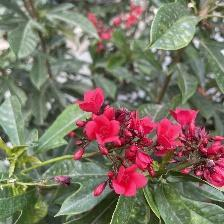jatropha: (111, 166, 149, 199), (86, 116, 125, 147), (152, 120, 183, 157), (128, 112, 157, 149), (78, 87, 109, 115), (169, 108, 201, 131), (205, 161, 224, 189)
